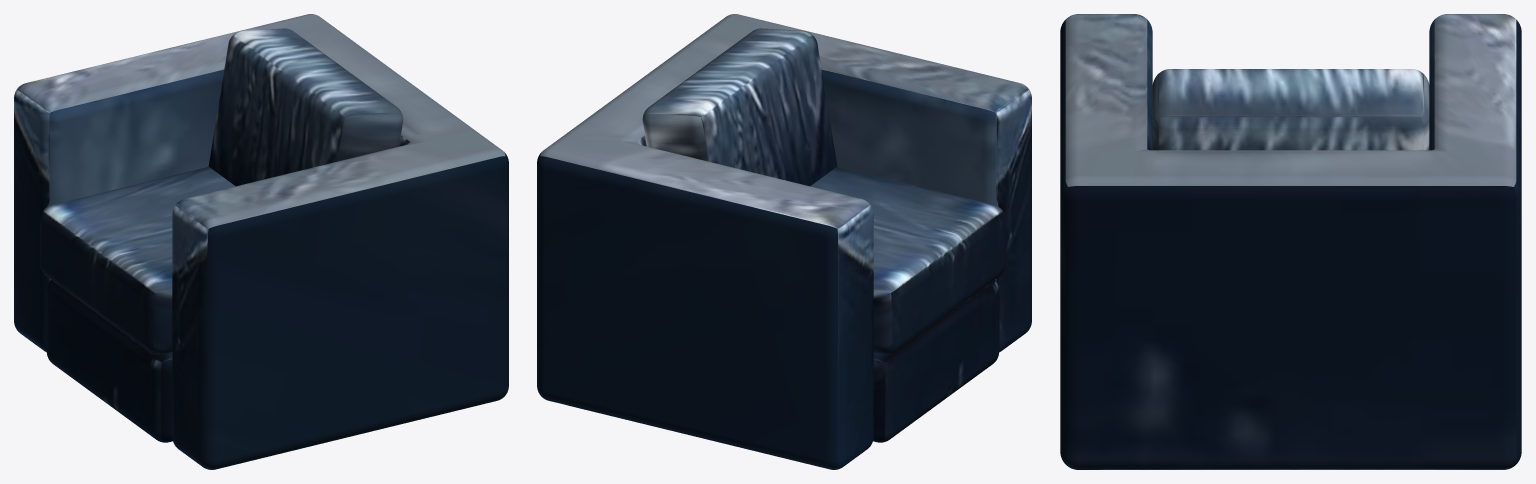
The model's file is chairF.fbx.
3 renders of one model, left to right at view 1: azimuth 30°, elevation 25°; view 2: azimuth 150°, elevation 25°; view 3: azimuth 270°, elevation 25°, orthographic. The views are drawn at different scales.
Visible parts, largest first — view 1: chairBody.001, back.001, seats.001, bottom.001; view 2: chairBody.001, back.001, seats.001, bottom.001; view 3: chairBody.001, back.001.
Part boxes in pixels (x1=…): chairBody.001: x1=14, y1=14, x2=508, y2=469; back.001: x1=208, y1=28, x2=403, y2=186; seats.001: x1=40, y1=167, x2=235, y2=354; bottom.001: x1=46, y1=280, x2=172, y2=442; chairBody.001: x1=537, y1=14, x2=1031, y2=469; back.001: x1=642, y1=28, x2=837, y2=186; seats.001: x1=810, y1=167, x2=1005, y2=354; bottom.001: x1=873, y1=280, x2=999, y2=442; chairBody.001: x1=1060, y1=14, x2=1521, y2=469; back.001: x1=1152, y1=69, x2=1429, y2=150.
Bounding box in the file's own units: 94 × 80.62 × 100.
Materials: 1 (1 with a texture image).
